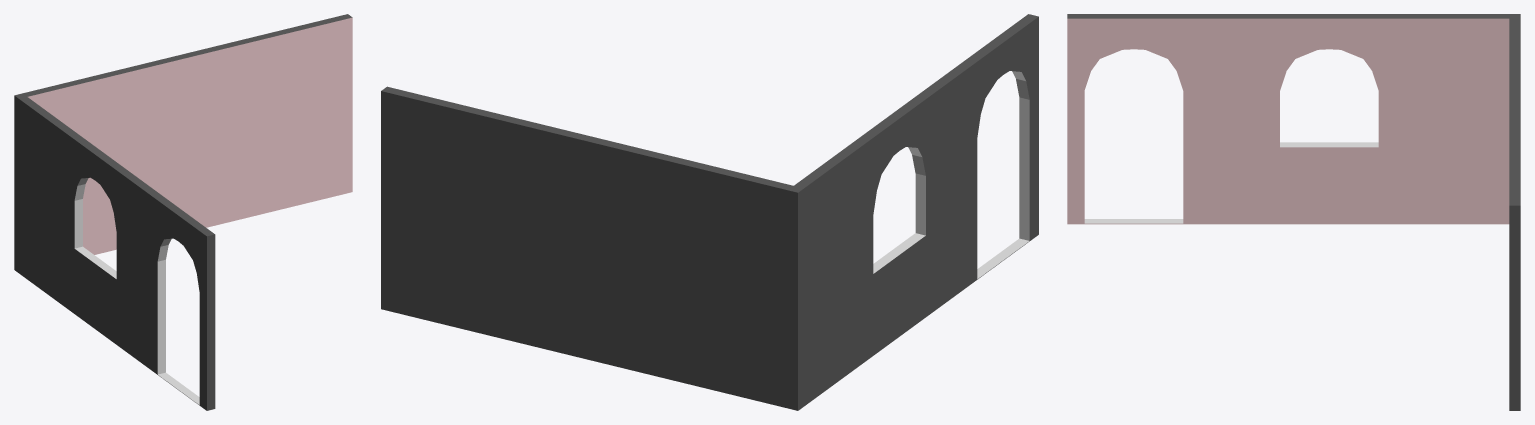
Rendered from Wall_5.fbx.
3 renders of one model, left to right at view 1: azimuth 30°, elevation 25°; view 2: azimuth 150°, elevation 25°; view 3: azimuth 270°, elevation 25°, orthographic. The views are drawn at different scales.
Parts seen in each view (by area): view 1: Wall_5; view 2: Wall_5; view 3: Wall_5.
Boxes of the visible parts, x1=… form: Wall_5: x1=14, y1=14, x2=352, y2=410; Wall_5: x1=381, y1=14, x2=1038, y2=410; Wall_5: x1=1067, y1=14, x2=1520, y2=410.
Size of the model in its own units: 400 by 200 by 400.
